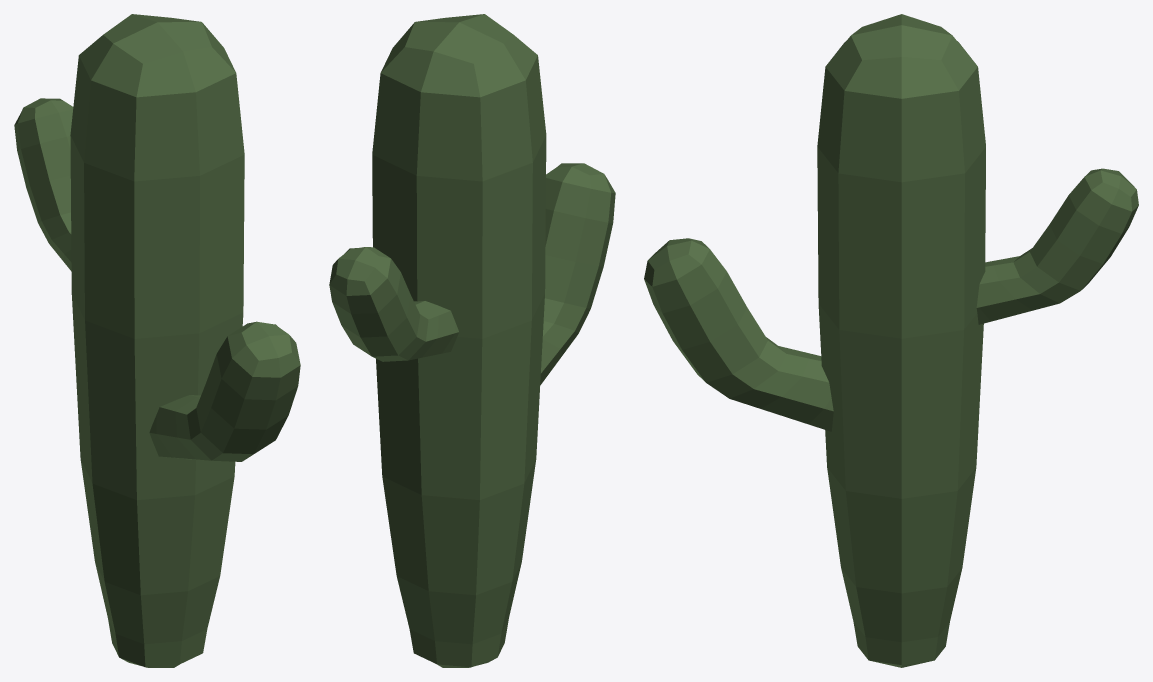
File: Cactus_low.glb
3 renders of one model, left to right at view 1: azimuth 30°, elevation 25°; view 2: azimuth 150°, elevation 25°; view 3: azimuth 270°, elevation 25°, orthographic.
Parts seen in each view (by area): view 1: Cactus_3; view 2: Cactus_3; view 3: Cactus_3.
Part boxes in pixels (x1,y1,x2,y2): Cactus_3: (14, 14, 300, 667); Cactus_3: (329, 14, 615, 667); Cactus_3: (644, 14, 1138, 667).
Size of the model in its own units: 0.3418 by 1.41 by 1.
